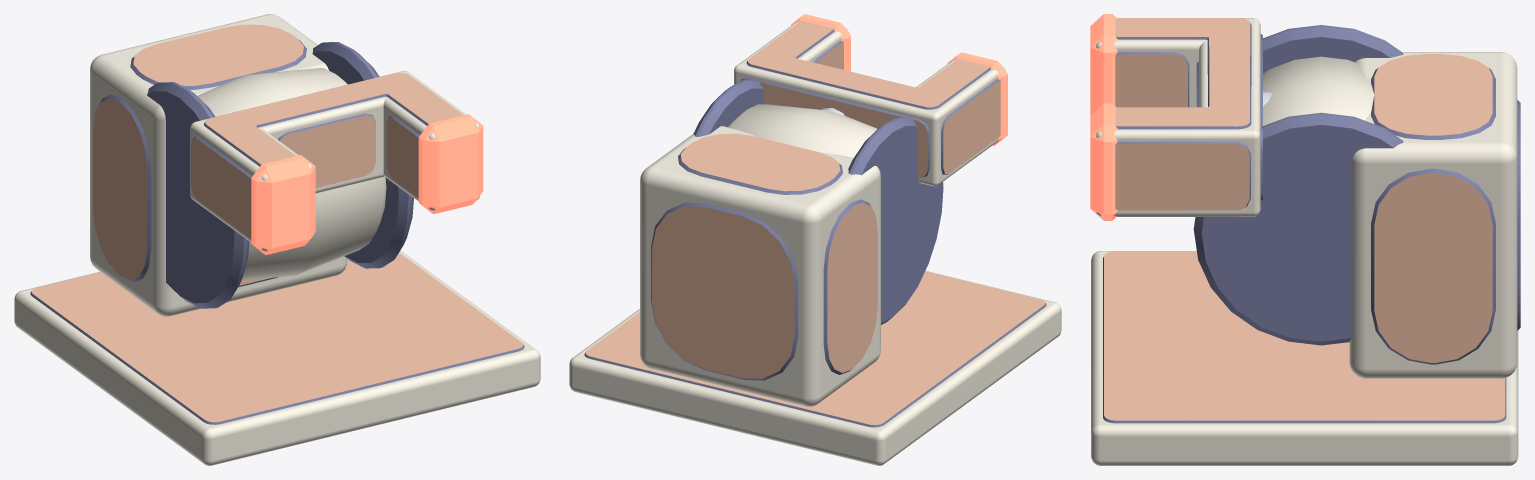
Rendered from R4X_MagneticGrapple.fbx.
3 views of the same model, side by side, from view 1: azimuth 30°, elevation 25°; view 2: azimuth 150°, elevation 25°; view 3: azimuth 270°, elevation 25° (orthographic). The views are drawn at different scales.
Parts seen in each view (by area): view 1: R4X_MagneticGrapple_Body; view 2: R4X_MagneticGrapple_Body; view 3: R4X_MagneticGrapple_Body.
Boxes of the visible parts, bbox=[...] form: R4X_MagneticGrapple_Body: bbox=[14, 14, 540, 465]; R4X_MagneticGrapple_Body: bbox=[569, 14, 1061, 465]; R4X_MagneticGrapple_Body: bbox=[1090, 14, 1520, 465].
Bounding box in the file's own units: 0.514 × 0.414 × 0.518.
